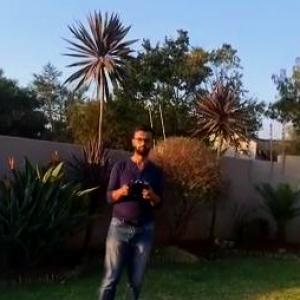follow: (93, 121, 168, 298)
